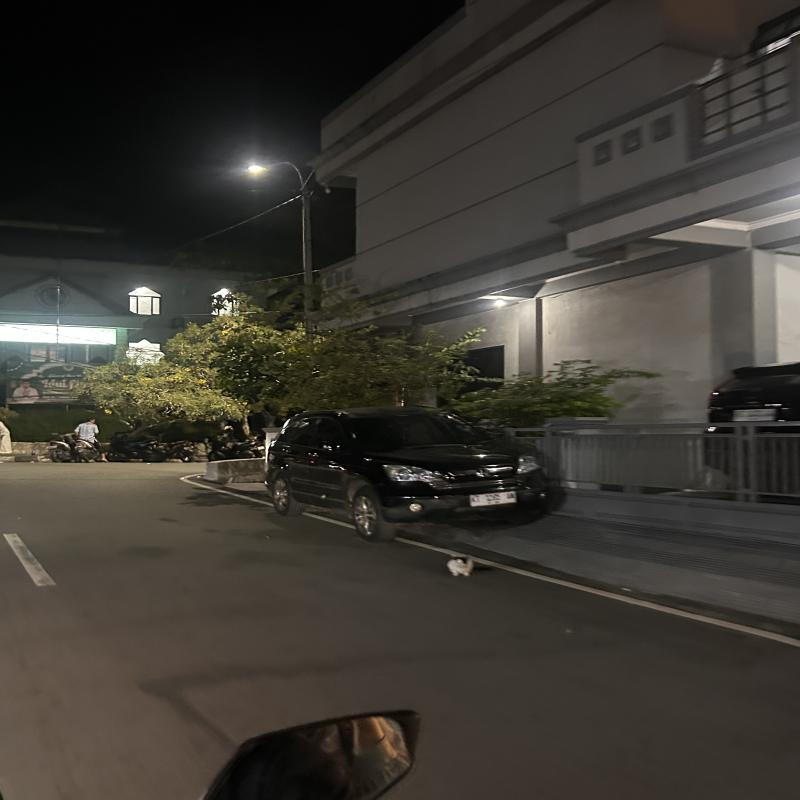license plate on a car: (469, 492, 529, 506)
